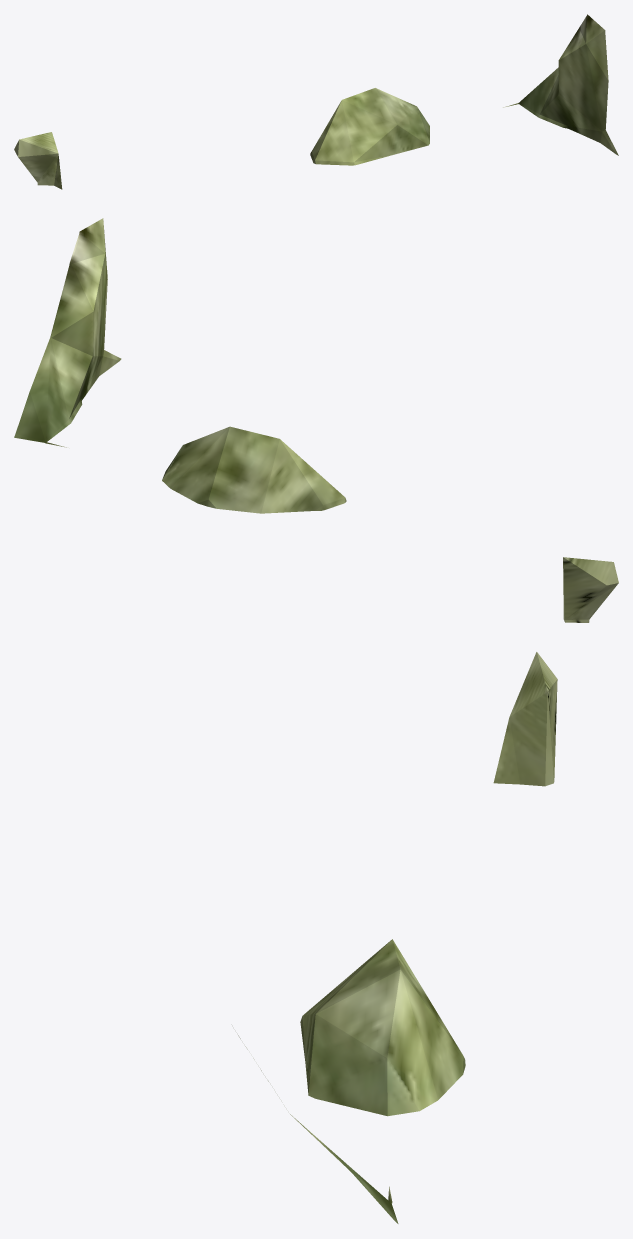
The picture shows the model from 3 angles, top to bottom: view 1: azimuth 30°, elevation 25°; view 2: azimuth 150°, elevation 25°; view 3: azimuth 270°, elevation 25°; orthographic projection. The views are drawn at different scales.
Size of the model in its own units: 2.29 by 0.5332 by 0.9826.
Materials: 1 (1 with a texture image).
